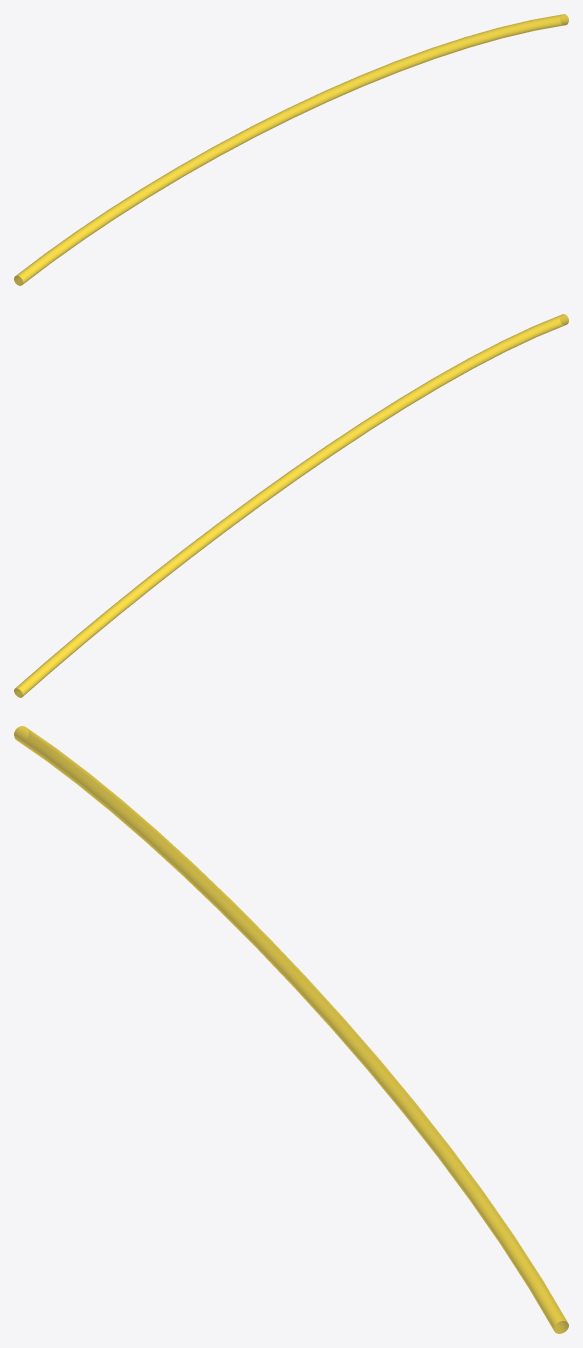
Rendered from Event_100608114_track_3.fbx.
3 views of the same model, one above another, from view 1: azimuth 30°, elevation 25°; view 2: azimuth 210°, elevation 25°; view 3: azimuth 270°, elevation 25° (orthographic). The views are drawn at different scales.
Visible parts, largest first — view 1: Model; view 2: Model; view 3: Model.
Boxes of the visible parts, x1,y1,x2,y2 form: Model: (14,14,568,285); Model: (14,314,568,697); Model: (14,726,568,1333).
Bounding box in the file's own units: 3 × 0.3066 × 1.36.
